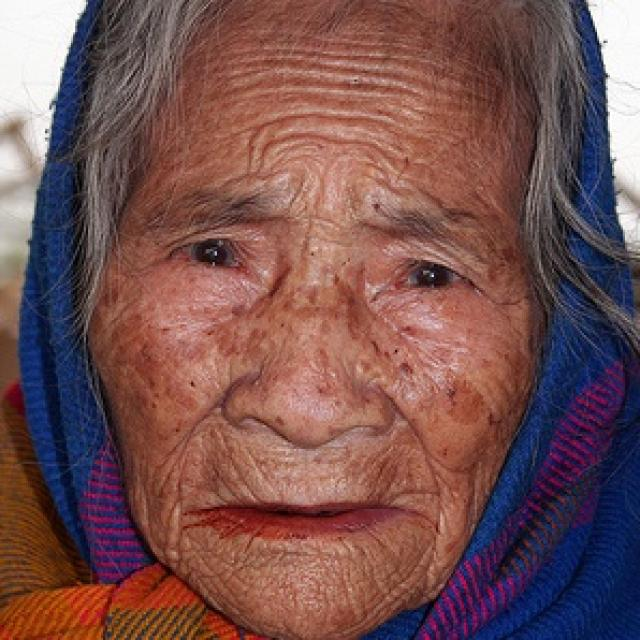Depress: (88, 5, 557, 638)
